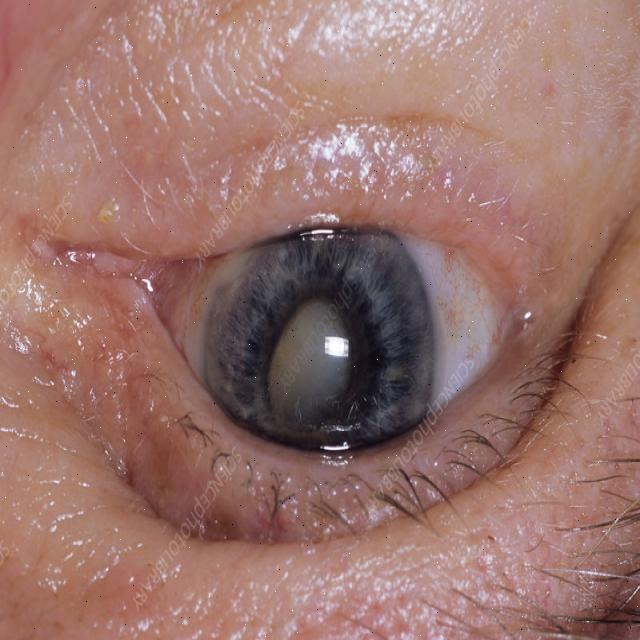Cataract: (203, 204, 432, 521)
